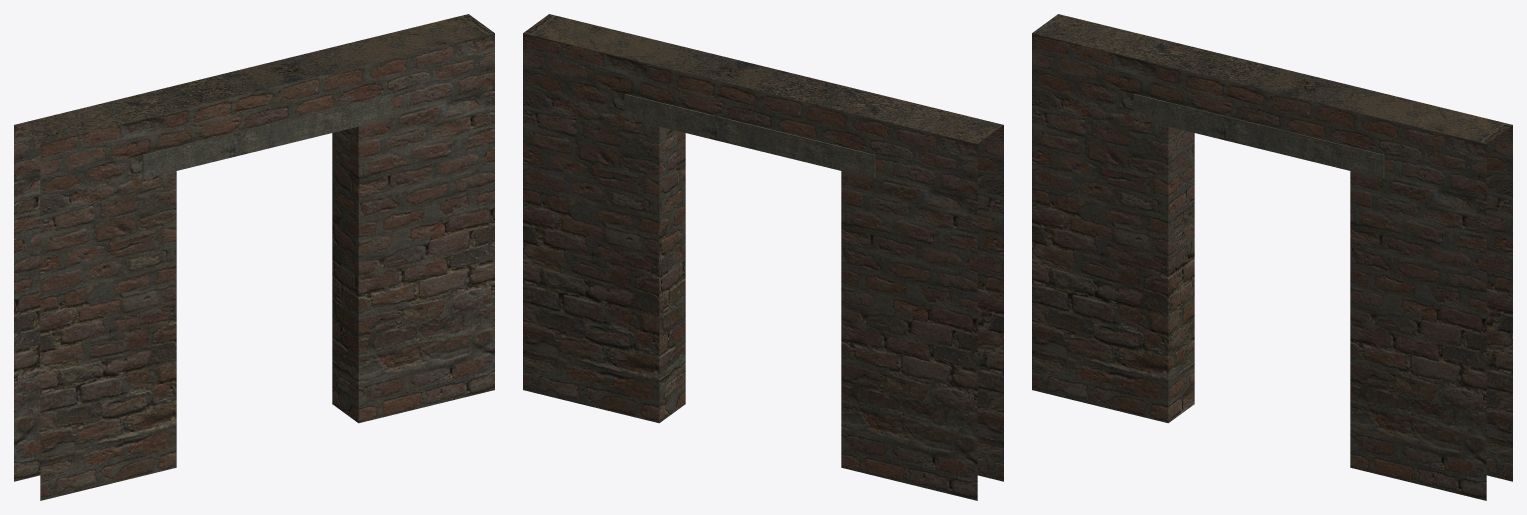
File: doorway_hr_2_wide.dae
3 renders of one model, left to right at view 1: azimuth 30°, elevation 25°; view 2: azimuth 150°, elevation 25°; view 3: azimuth 330°, elevation 25°, orthographic.
Parts seen in each view (by area): view 1: doorway_hr_2_wide; view 2: doorway_hr_2_wide; view 3: doorway_hr_2_wide.
Part boxes in pixels (x1,y1,x2,y2): doorway_hr_2_wide: (14,14,494,500); doorway_hr_2_wide: (523,14,1003,500); doorway_hr_2_wide: (1032,14,1512,500).
Size of the model in its own units: 4 by 0.42 by 3.
Materials: 3 (3 with a texture image).
